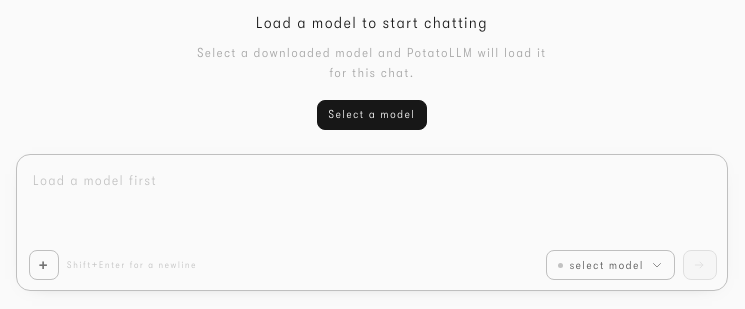
Scenario: Playground › offers the downloaded models in the composer's model panel
Click the button titled "Model selector": (610, 265) [546,250,675,280]
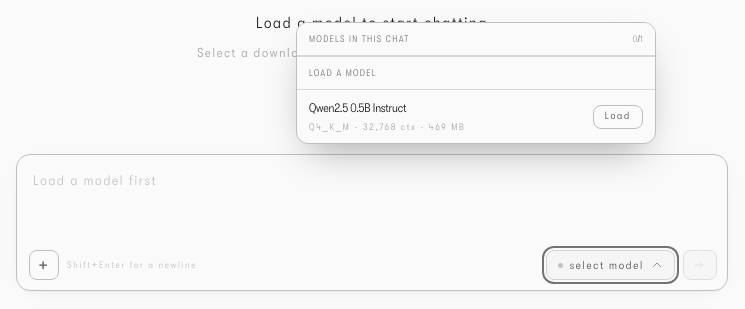
Now the text "Qwen2.5 0.5B Instruct" is shown, box [309,101,406,115]
Now the text "Q4_K_M · 32,768 ctx · 469 MB" is shown, box [309,121,466,132]
Now the text "LOAD A MODEL" is shown, box [297,56,655,89]
